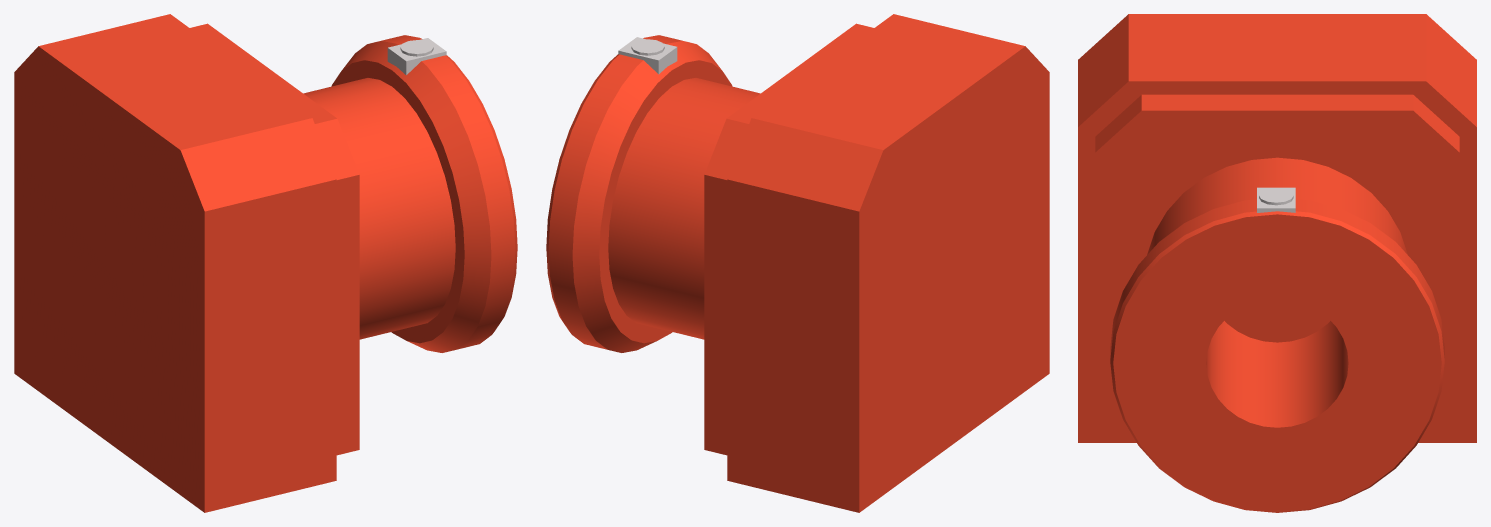
File: pipe_end.fbx
3 renders of one model, left to right at view 1: azimuth 30°, elevation 25°; view 2: azimuth 150°, elevation 25°; view 3: azimuth 270°, elevation 25°, orthographic. The views are drawn at different scales.
Visible parts, largest first — view 1: Pipe_end; view 2: Pipe_end; view 3: Pipe_end.
Boxes of the visible parts, box(x1,y1,x2,y2) form: Pipe_end: box(14, 14, 517, 512); Pipe_end: box(546, 14, 1049, 512); Pipe_end: box(1078, 14, 1476, 512).
Size of the model in its own units: 100 by 100 by 100.
